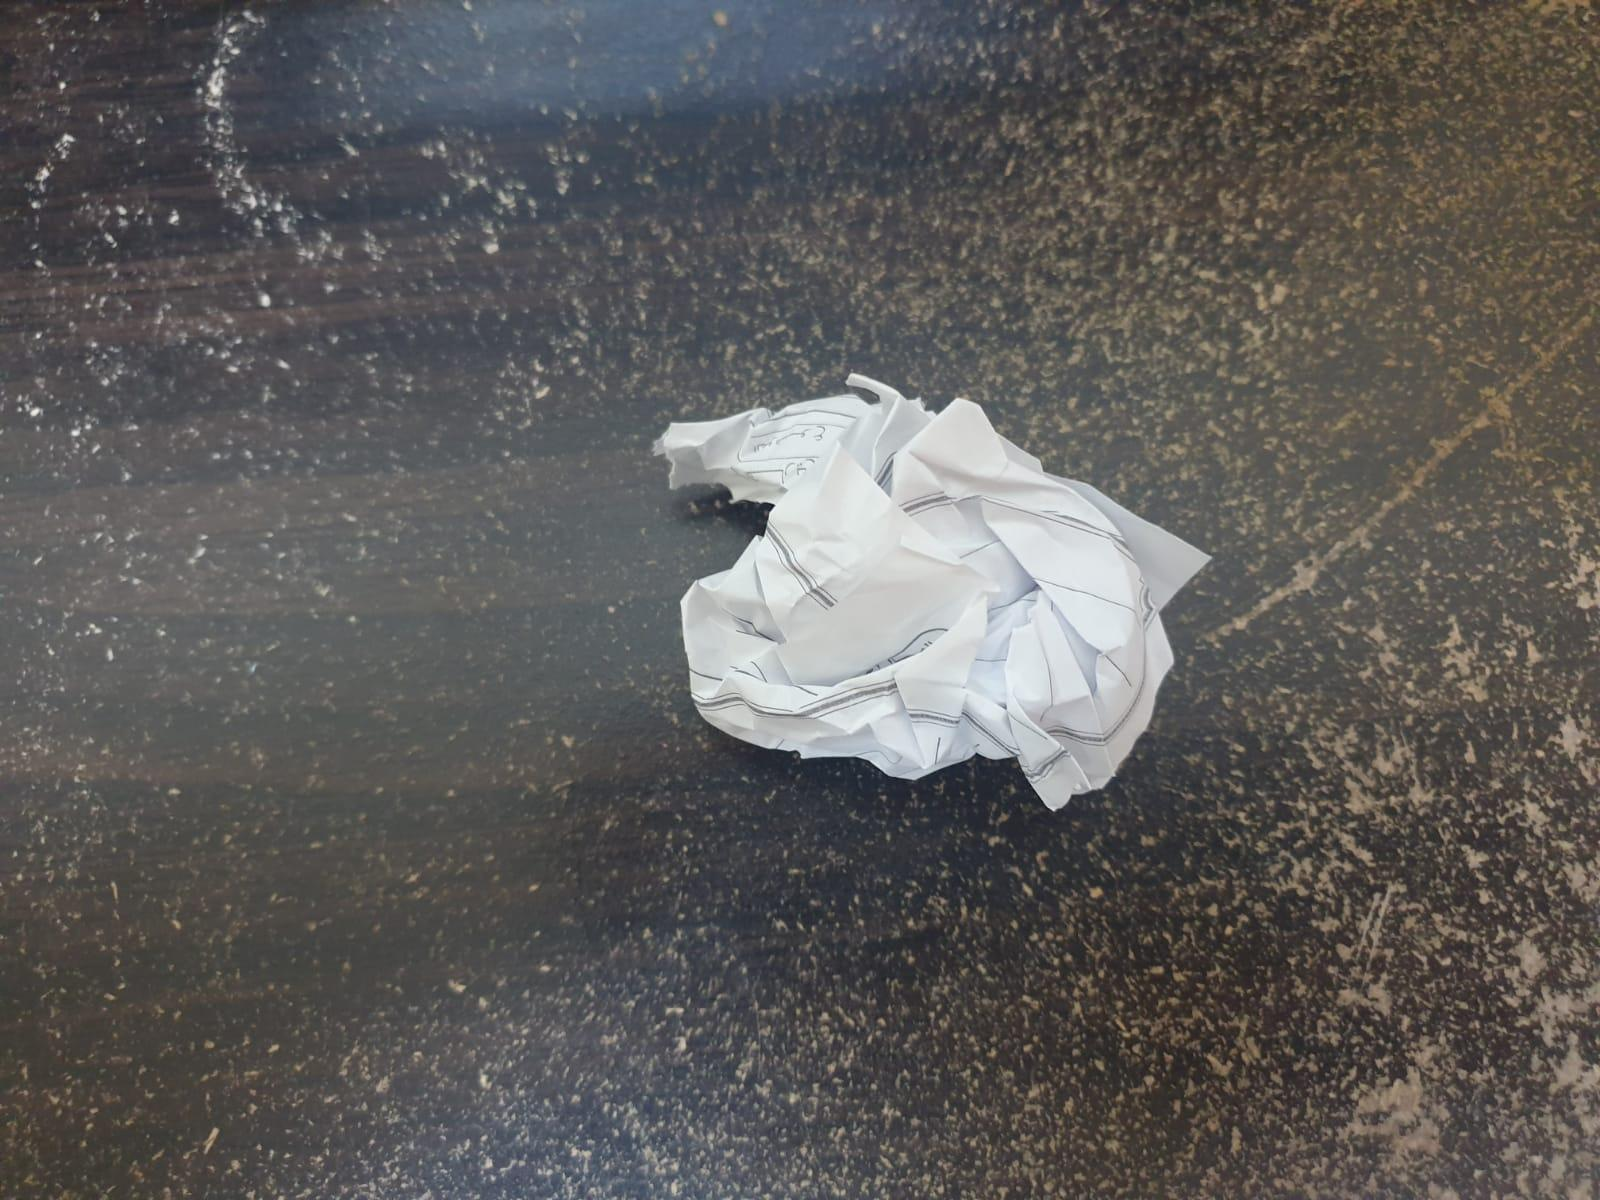Paper: (646, 366, 1215, 823)
